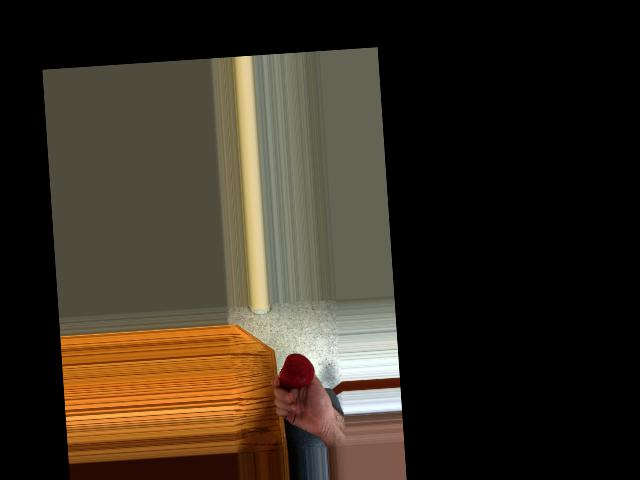apple: (278, 350, 315, 390)
